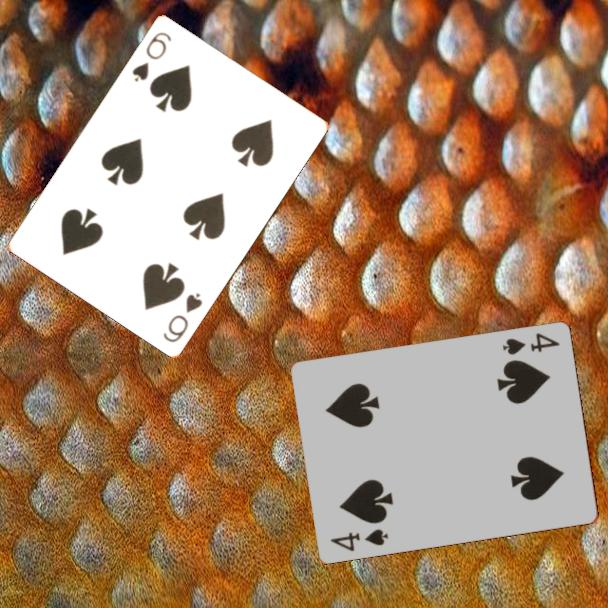s04: (327, 525, 391, 554), (499, 329, 562, 357)
s06: (159, 288, 205, 345), (129, 28, 174, 84)
